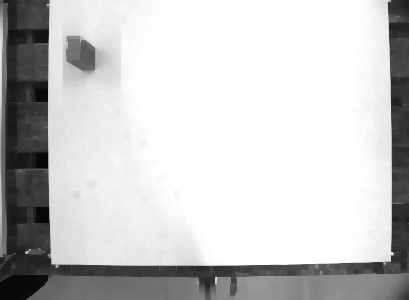b1: (64, 33, 98, 72)
